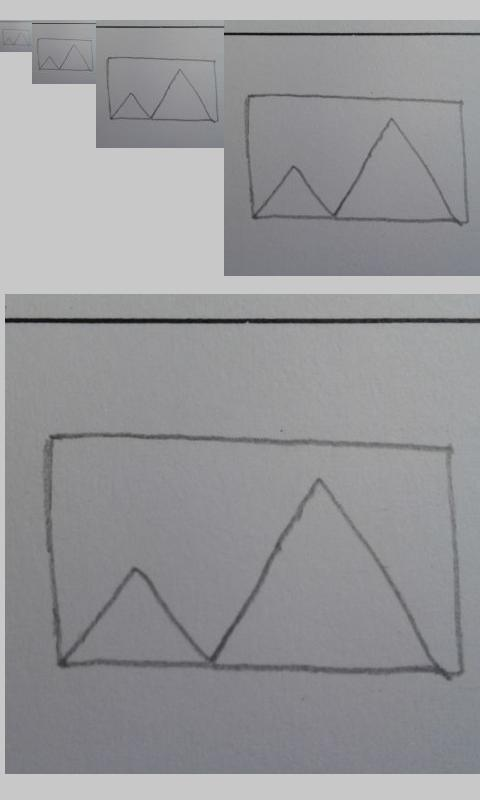image_view: (41, 425, 465, 684), (241, 89, 470, 229), (105, 56, 219, 124), (36, 37, 94, 72), (1, 28, 32, 47)
